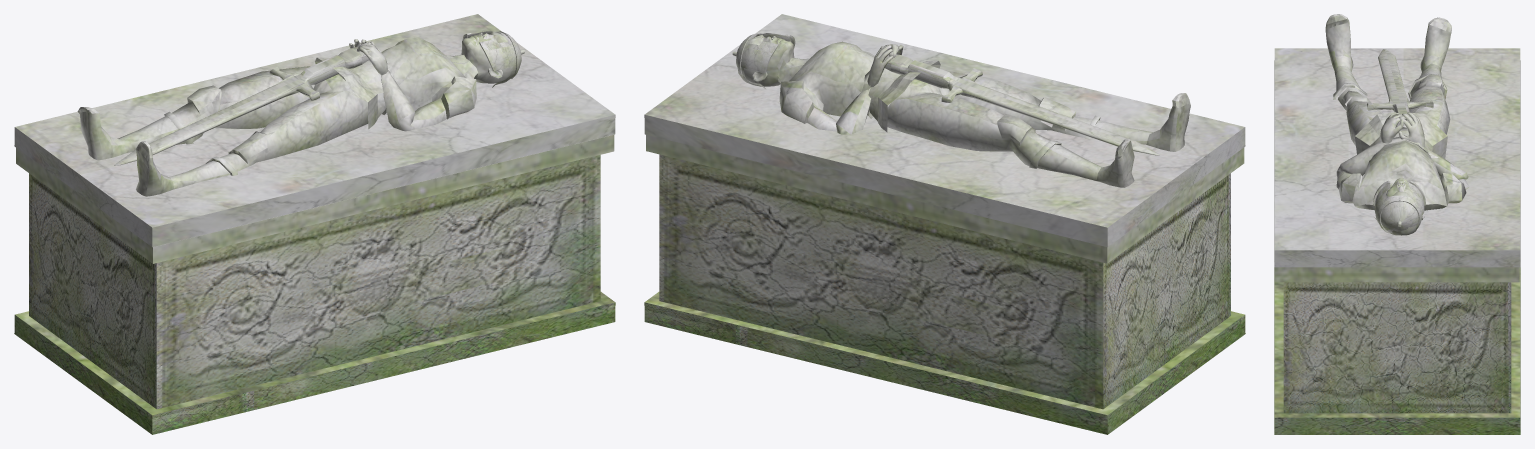
The model's file is C_knight.FBX.
3 renders of one model, left to right at view 1: azimuth 30°, elevation 25°; view 2: azimuth 150°, elevation 25°; view 3: azimuth 270°, elevation 25°, orthographic. The views are drawn at different scales.
Parts seen in each view (by area): view 1: Box01, Box02, Human.001, Box03, sword, helmet; view 2: Box01, Box02, Human.001, Box03, sword, helmet; view 3: Box02, Box01, Human.001, Box03, helmet, sword.
Part boxes in pixels (x1,y1,x2,y2): Box01: [16, 135, 614, 409]; Box02: [14, 14, 615, 247]; Human.001: [77, 31, 510, 196]; Box03: [14, 292, 615, 434]; sword: [114, 47, 368, 165]; helmet: [462, 31, 524, 87]; Box01: [646, 135, 1244, 409]; Box02: [644, 14, 1245, 247]; Human.001: [738, 34, 1190, 187]; Box03: [644, 292, 1245, 434]; sword: [884, 54, 1159, 155]; helmet: [732, 33, 795, 88]; Box02: [1274, 48, 1520, 267]; Box01: [1274, 267, 1519, 413]; Human.001: [1325, 14, 1469, 235]; Box03: [1274, 267, 1520, 434]; helmet: [1373, 180, 1425, 233]; sword: [1367, 49, 1433, 130].
Size of the model in its own units: 2093 by 1079 by 1175.
